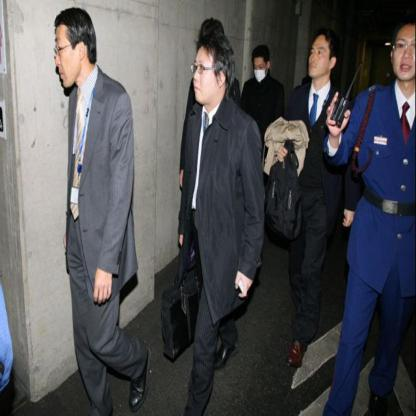face: (56, 27, 80, 88), (195, 51, 220, 103), (393, 25, 416, 81), (309, 36, 330, 78), (255, 58, 267, 82)
